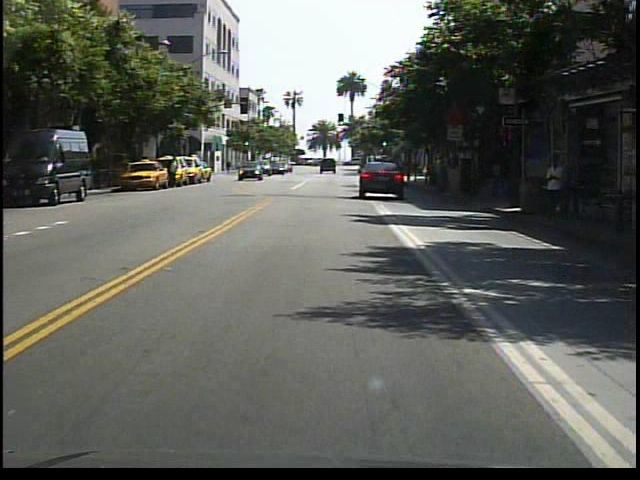person: (540, 149, 573, 225), (166, 154, 183, 190)
